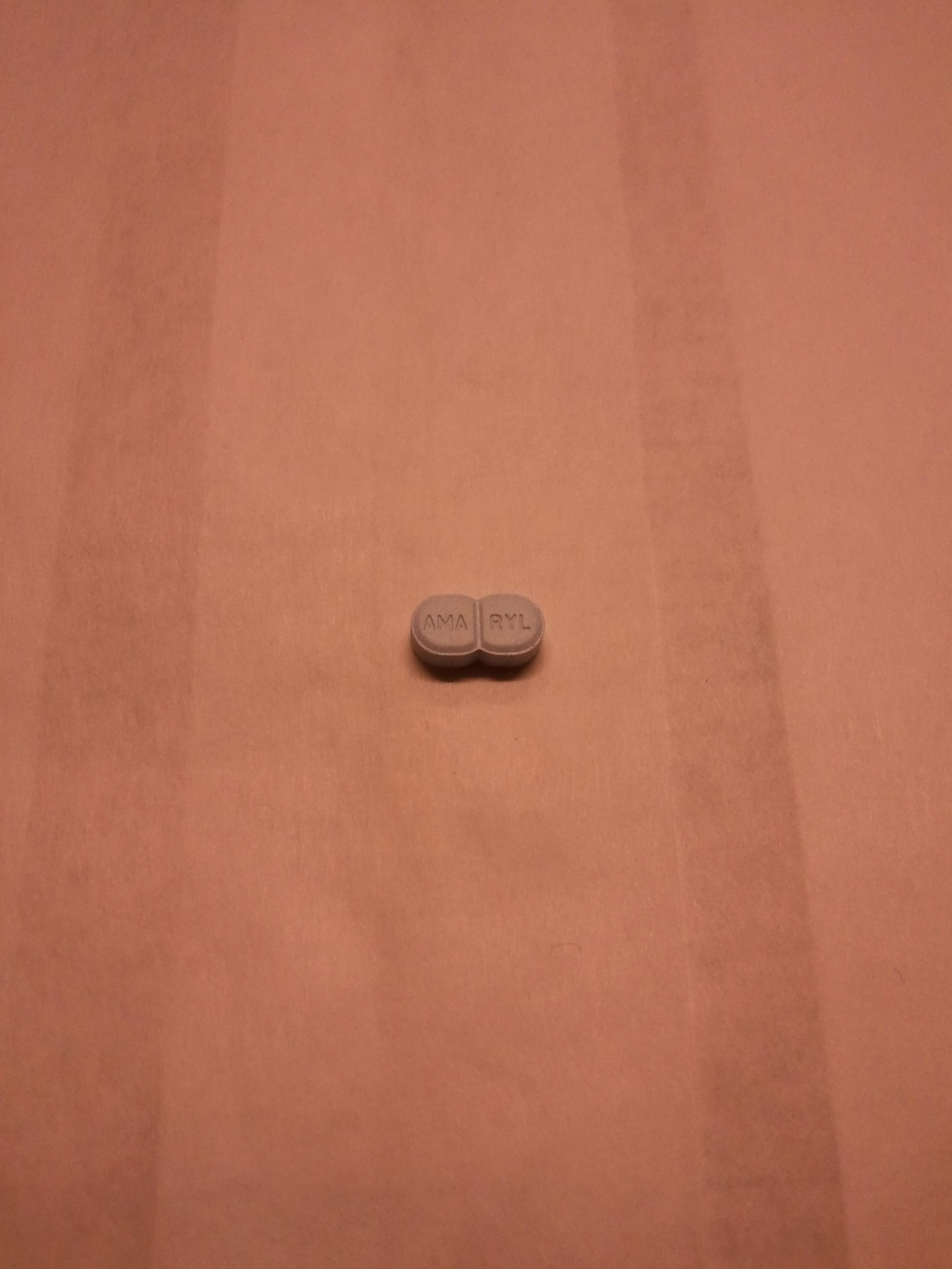Pill: (392, 573, 568, 696)
